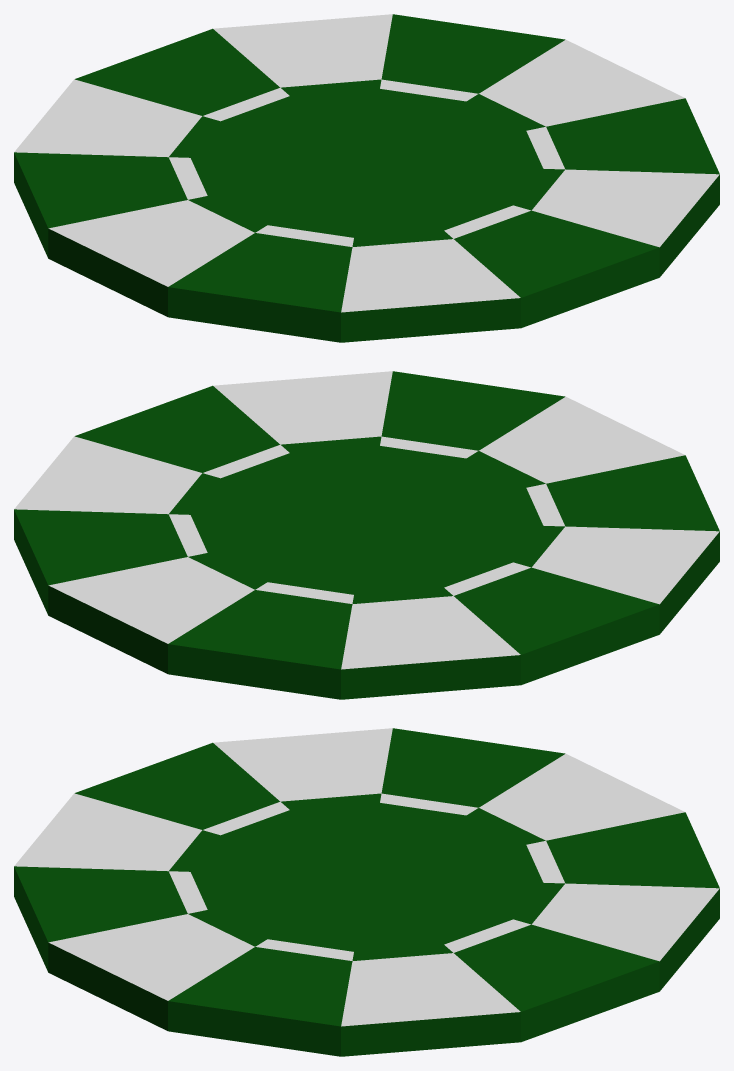
The model's file is Poker Chips - G.glb.
3 views of the same model, one above another, from view 1: azimuth 30°, elevation 25°; view 2: azimuth 150°, elevation 25°; view 3: azimuth 270°, elevation 25° (orthographic).
Parts seen in each view (by area): view 1: Circle.003; view 2: Circle.003; view 3: Circle.003.
Boxes of the visible parts, bbox=[...] form: Circle.003: bbox=[14, 14, 719, 342]; Circle.003: bbox=[14, 371, 719, 699]; Circle.003: bbox=[14, 728, 719, 1056].
Bounding box in the file's own units: 0.3141 × 0.0149 × 0.3141.
